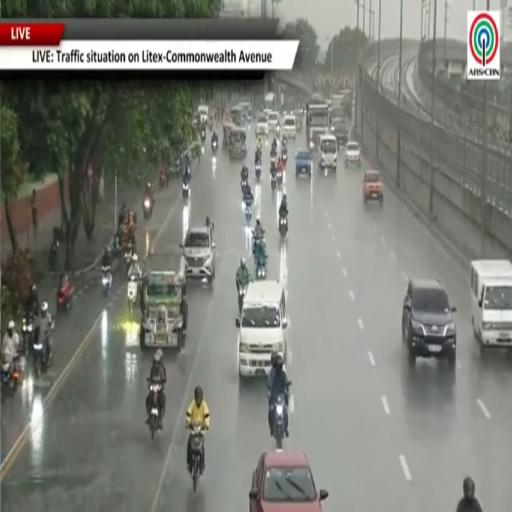car: (236, 280, 288, 377), (402, 279, 456, 367), (249, 451, 328, 511), (181, 227, 215, 283), (318, 134, 337, 171), (363, 170, 383, 205), (331, 118, 348, 148), (296, 151, 312, 177), (345, 141, 360, 166), (282, 115, 296, 140), (256, 114, 269, 136), (268, 111, 280, 133), (198, 105, 208, 124)
jeepney: (140, 248, 188, 350), (230, 127, 247, 158), (222, 123, 235, 150), (230, 106, 244, 126), (239, 102, 251, 122), (294, 109, 303, 132)
motorcycle: (191, 425, 204, 493), (147, 378, 161, 440), (273, 395, 287, 450), (0, 356, 19, 396), (33, 330, 47, 378), (57, 281, 74, 312), (20, 316, 33, 356), (48, 239, 60, 272), (128, 276, 138, 314), (102, 266, 112, 297), (238, 285, 247, 312), (143, 197, 153, 220), (256, 258, 266, 280), (125, 250, 133, 271), (279, 217, 287, 238), (159, 171, 167, 189), (246, 204, 252, 222), (255, 162, 261, 180), (241, 180, 248, 194), (183, 183, 189, 199), (276, 170, 282, 185), (271, 174, 276, 191), (212, 139, 218, 153), (282, 151, 287, 165), (208, 119, 213, 131), (201, 128, 205, 142), (271, 154, 276, 165)
truck: (306, 98, 330, 150), (332, 90, 352, 119), (264, 92, 276, 110)
